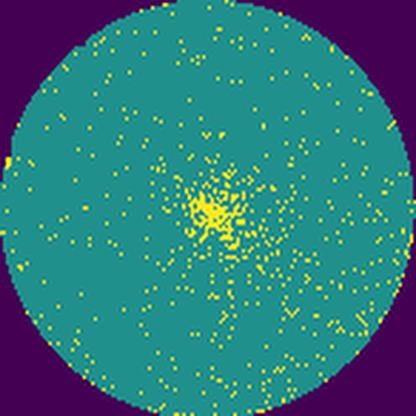Center: (182, 187, 249, 244)
